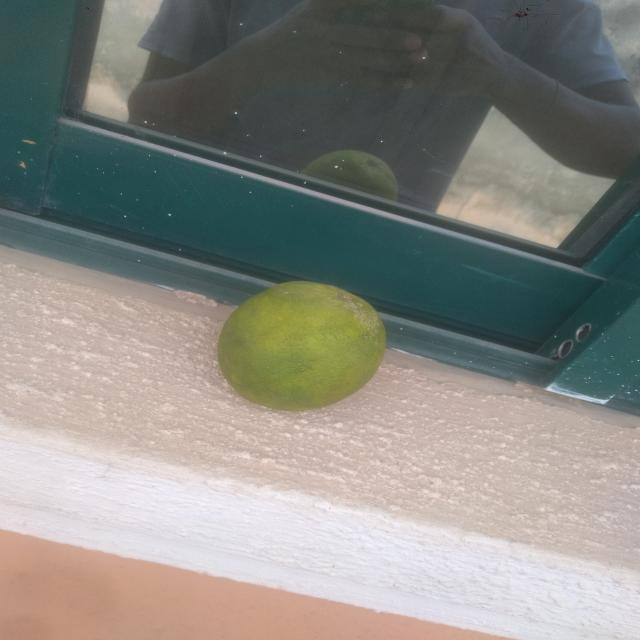Unripe: (209, 277, 398, 415)
